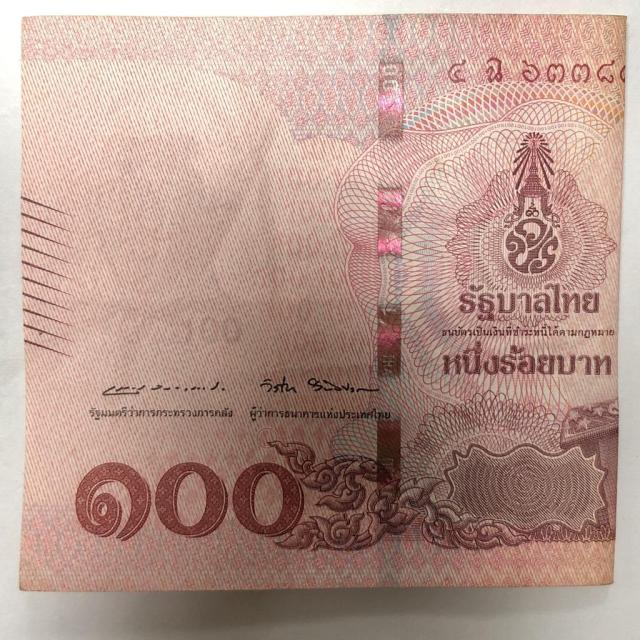THAI100: (19, 13, 626, 591)
